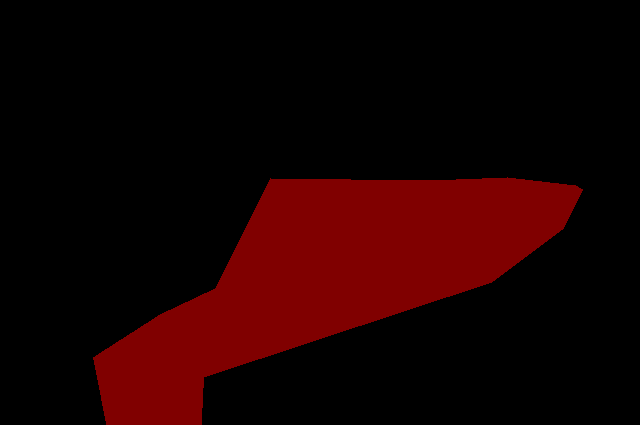fire: (93, 177, 582, 425)
